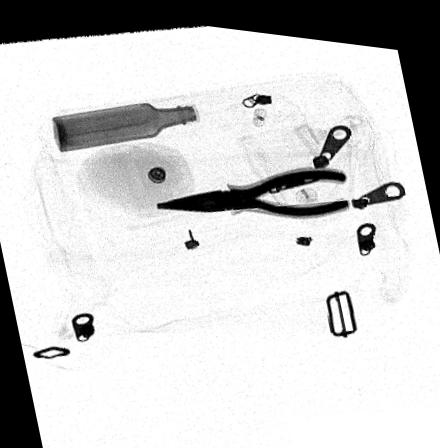Pliers: (153, 158, 352, 209)
